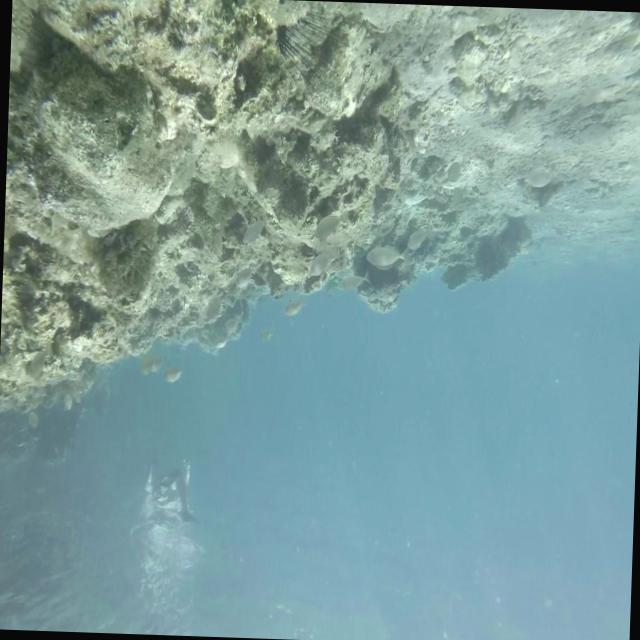Sokar Baligi: (363, 236, 418, 270), (240, 209, 278, 252)
